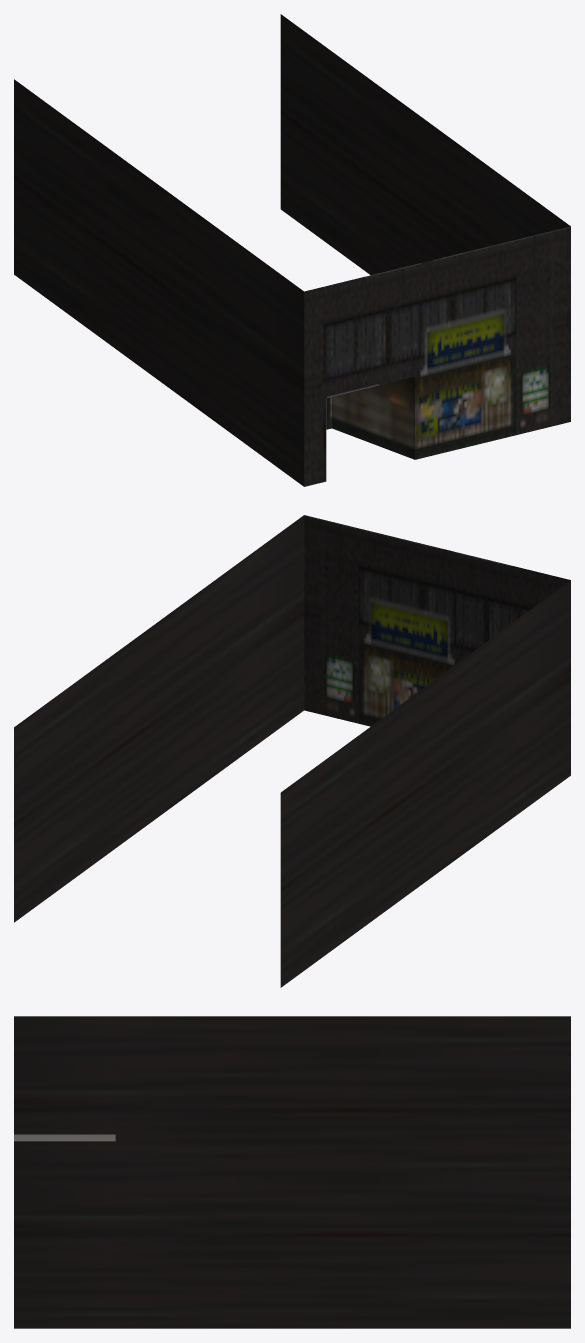
The model's file is w20_bldg1f_h.fbx.
The picture shows the model from 3 angles, top to bottom: view 1: azimuth 30°, elevation 25°; view 2: azimuth 150°, elevation 25°; view 3: azimuth 270°, elevation 25°; orthographic projection. The views are drawn at different scales.
Parts seen in each view (by area): view 1: w20_bldg1f_H; view 2: w20_bldg1f_H; view 3: w20_bldg1f_H.
Boxes of the visible parts, bbox=[...] form: w20_bldg1f_H: bbox=[14, 14, 570, 486]; w20_bldg1f_H: bbox=[14, 515, 570, 987]; w20_bldg1f_H: bbox=[14, 1016, 570, 1328].
Bounding box in the file's own units: 1400 × 980 × 2637.
